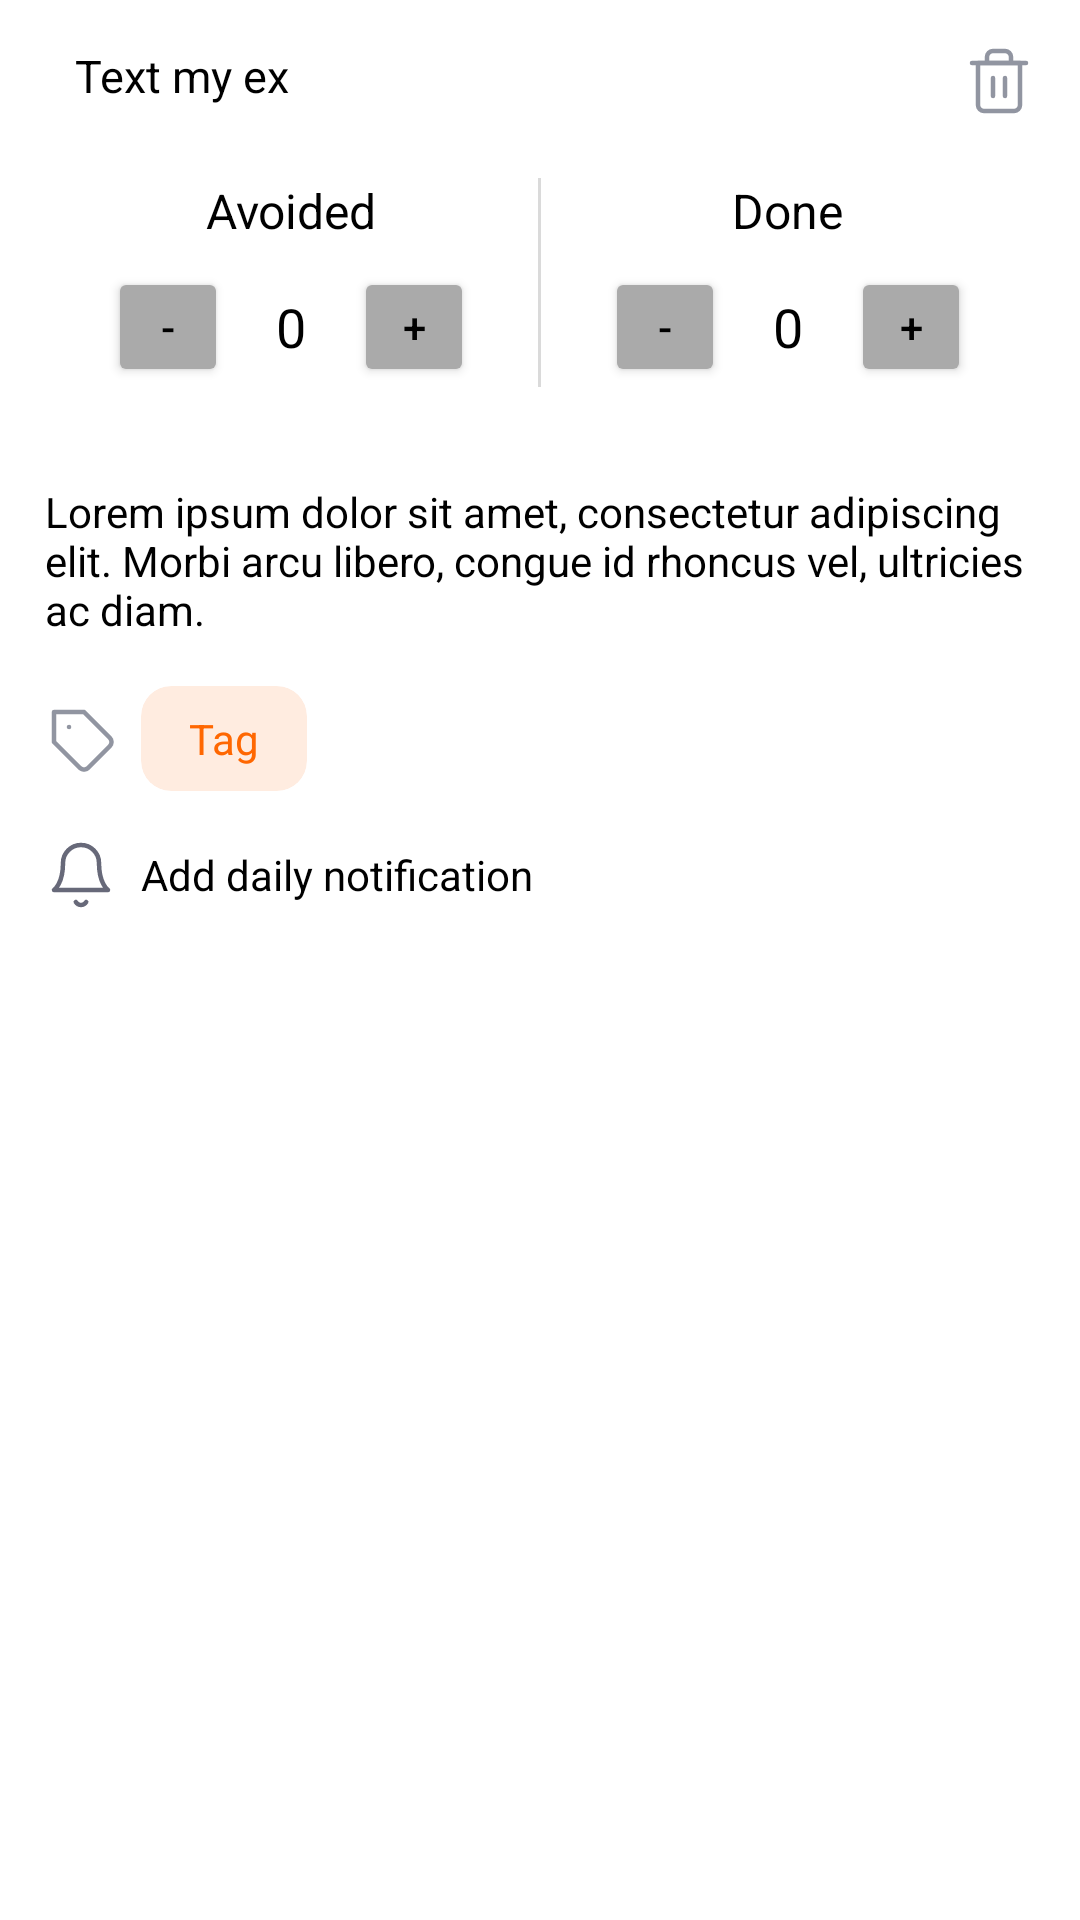

Icon click points for this 1080 × 1920 phone screenshot, format (x=x, y=y):
bell: (x=80, y=875)
trash: (x=999, y=81)
